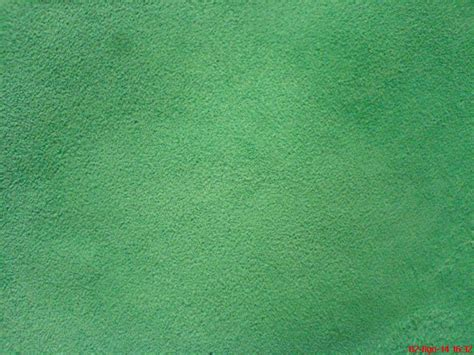gamuza: (1, 1, 474, 355)
